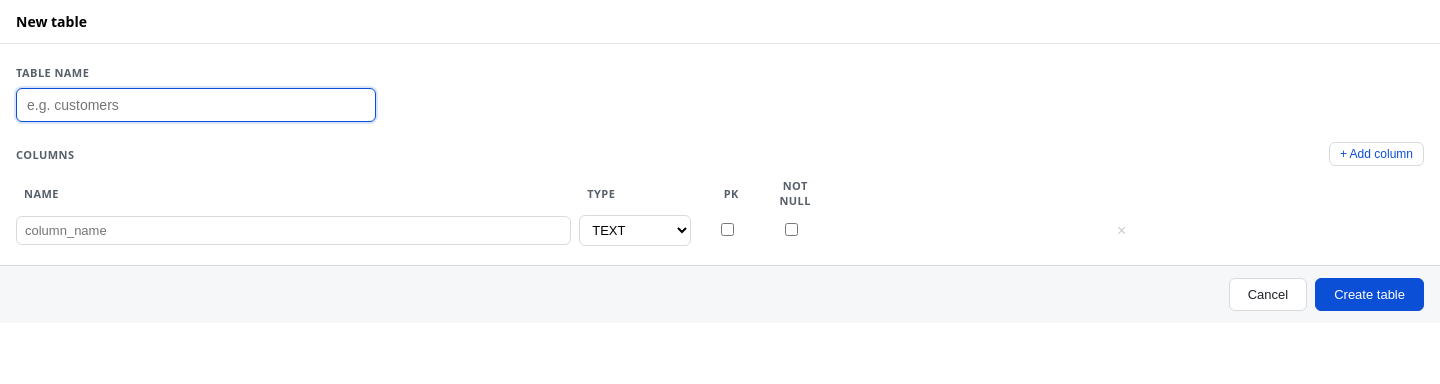
Test: TableForm (create mode) › requires a table name
Type "id" into the field named "Column name".
click(294, 230); type("id")  # box [16,216,571,245]
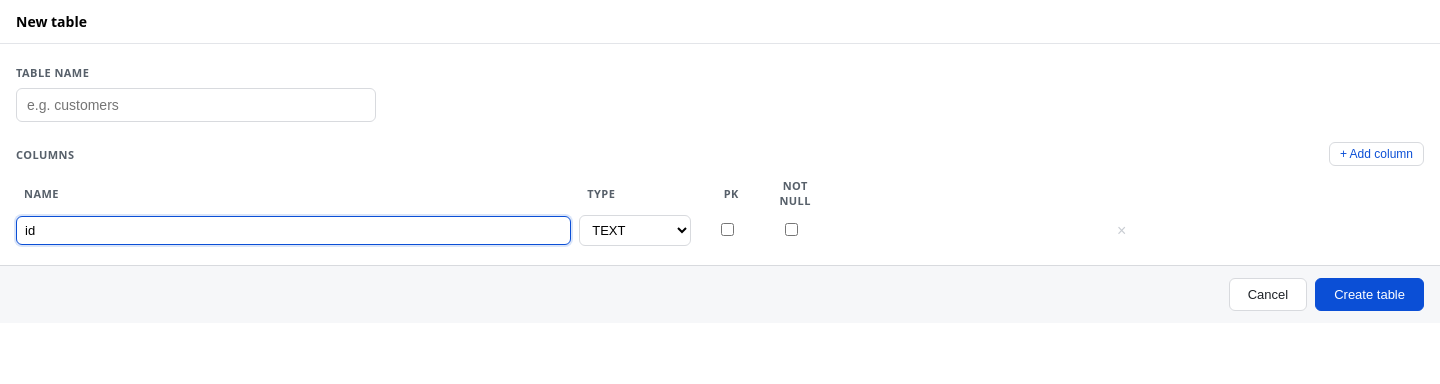
Click the button "Create table".
click(1370, 294)  # box [1315,278,1424,311]
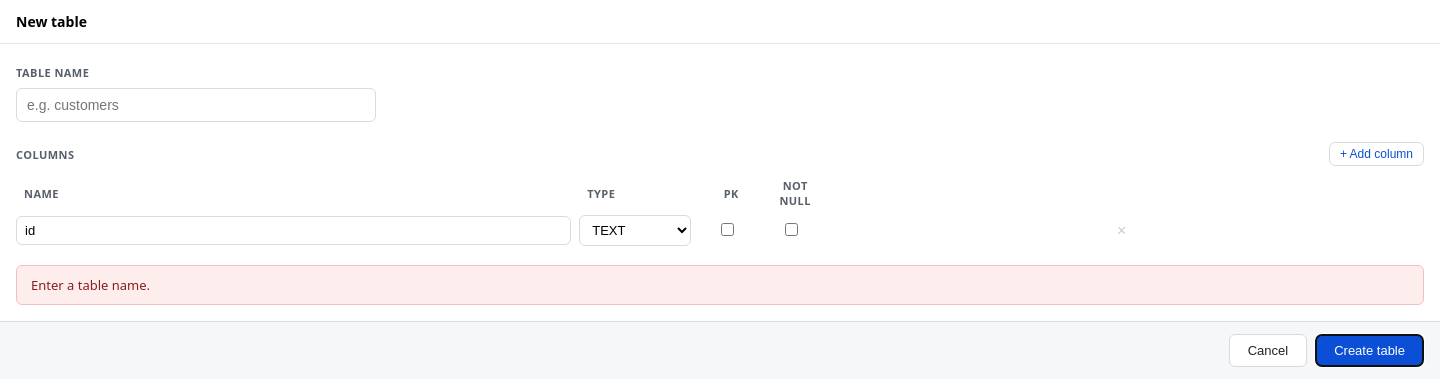
Result: the text "Enter a table name." is shown at [16,265,1424,305]
